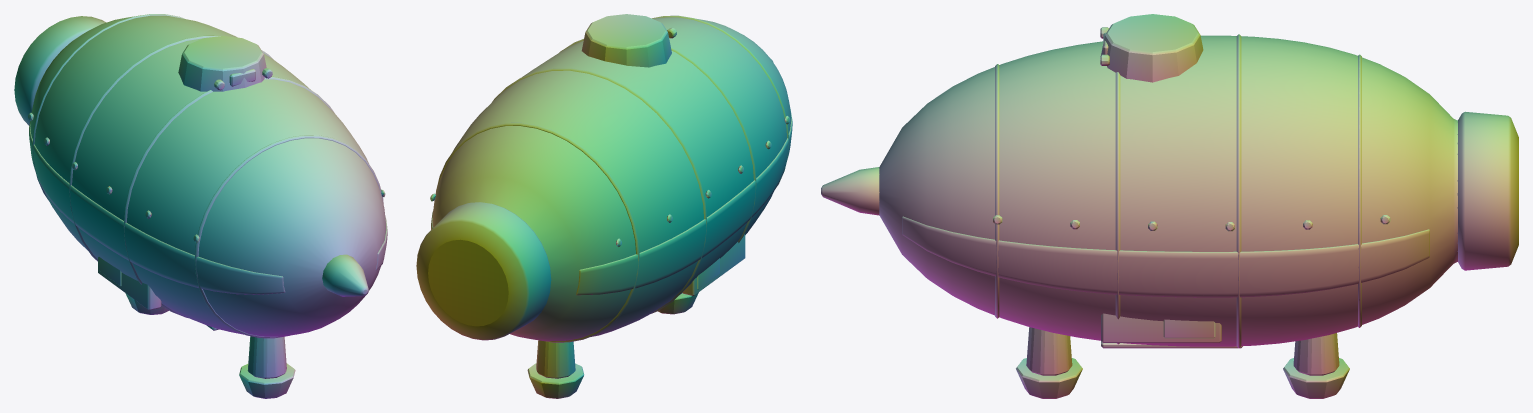
The model's file is blimp_rig.glb.
3 views of the same model, side by side, from view 1: azimuth 30°, elevation 25°; view 2: azimuth 150°, elevation 25°; view 3: azimuth 270°, elevation 25° (orthographic). The views are drawn at different scales.
Visible parts, largest first — view 1: body; view 2: body; view 3: body.
Boxes of the visible parts, x1,y1,x2,y2 form: body: (14,14,387,398); body: (416,14,792,398); body: (821,14,1518,398).
Size of the model in its own units: 7.29 by 9.15 by 16.2.
